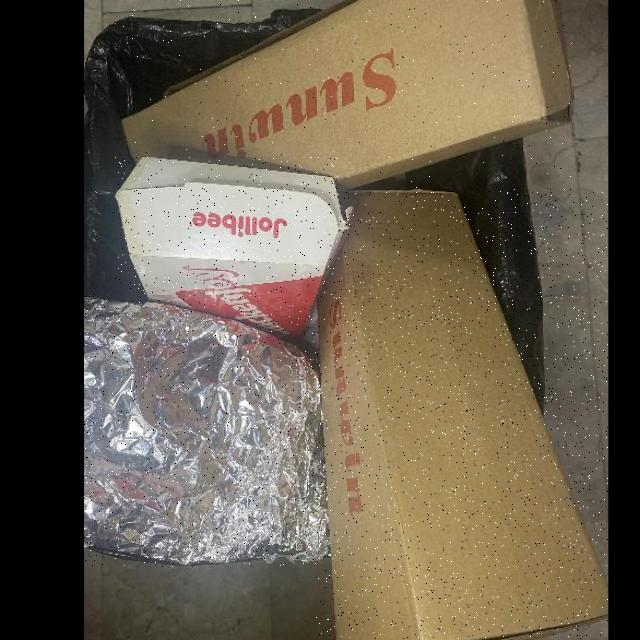metal: (84, 296, 331, 567)
paper: (316, 190, 608, 640), (121, 0, 573, 191), (114, 158, 347, 340)
